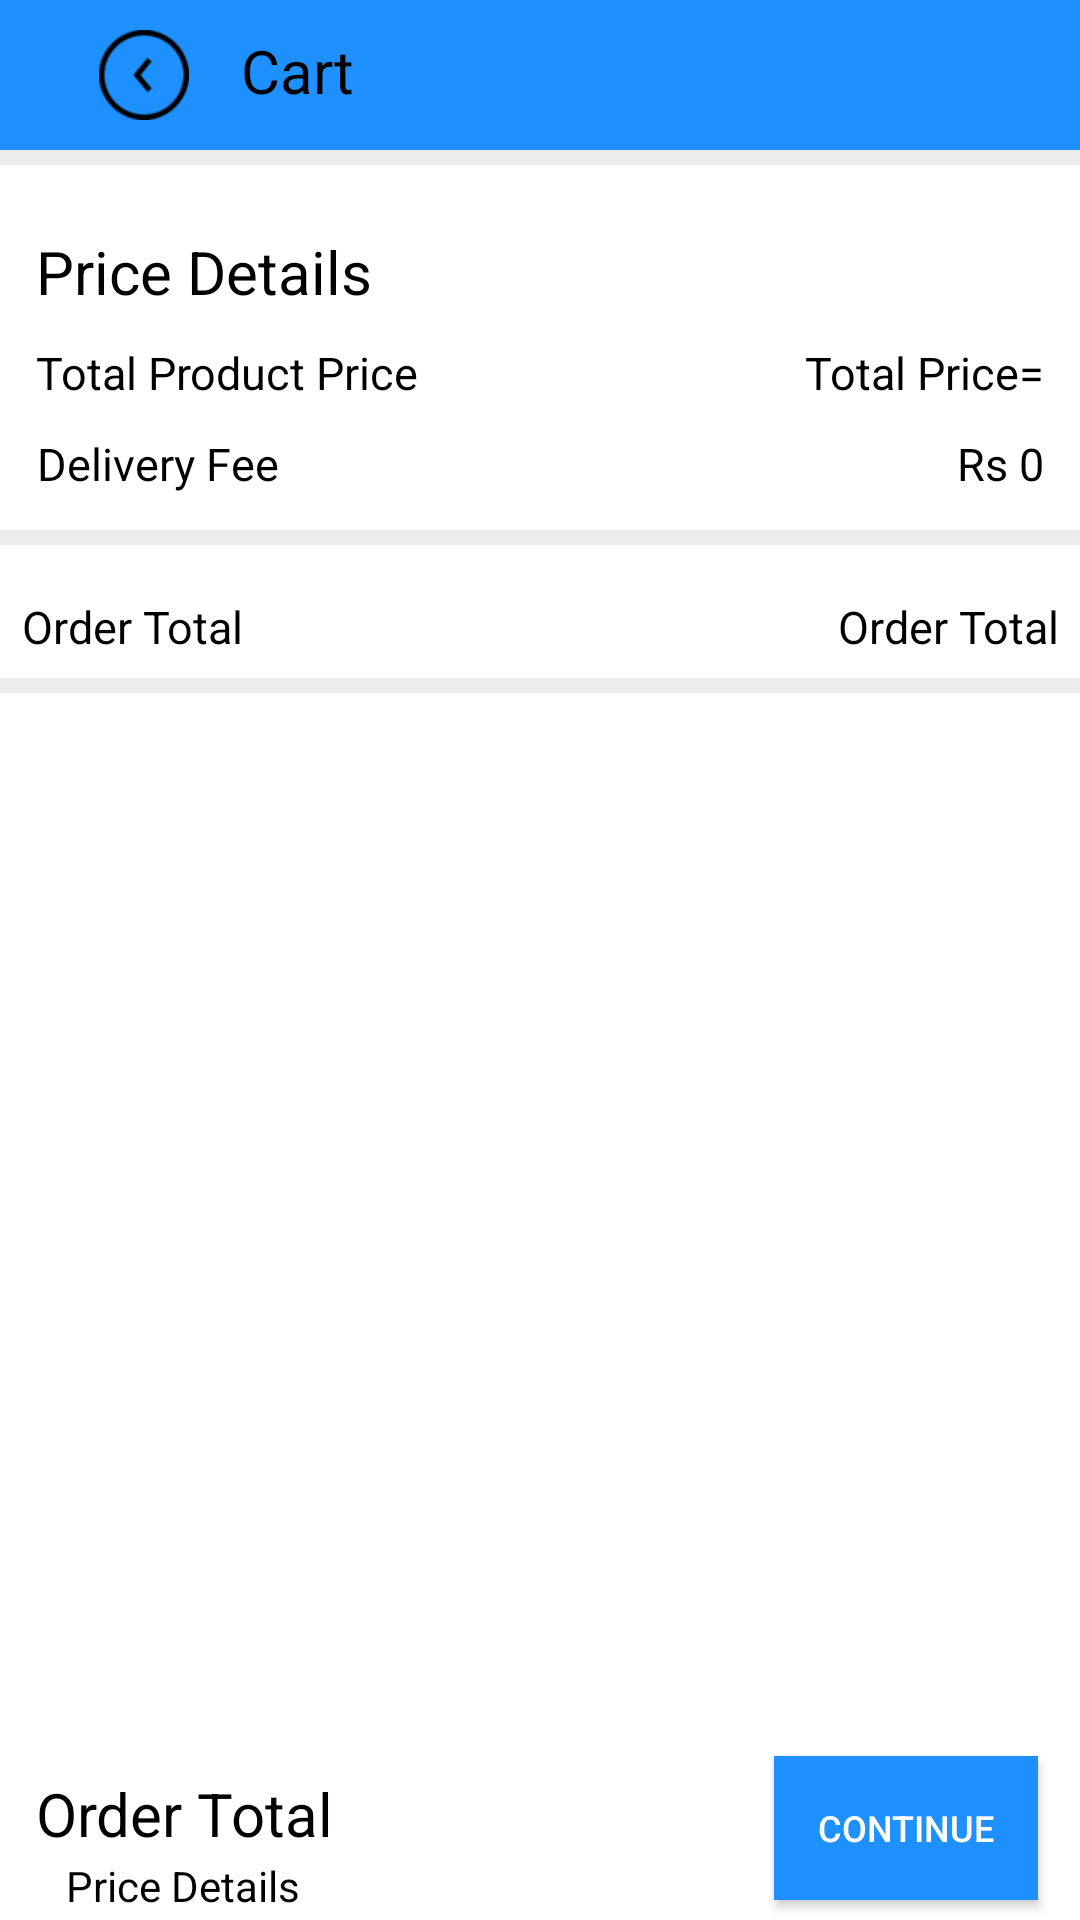

Named icons in this screenshot (1080w x 1920h) and their bounding boxes, (left=x1, top=y1, right=x2, bottom=y2):
backbutton: (left=99, top=30, right=189, bottom=120)
